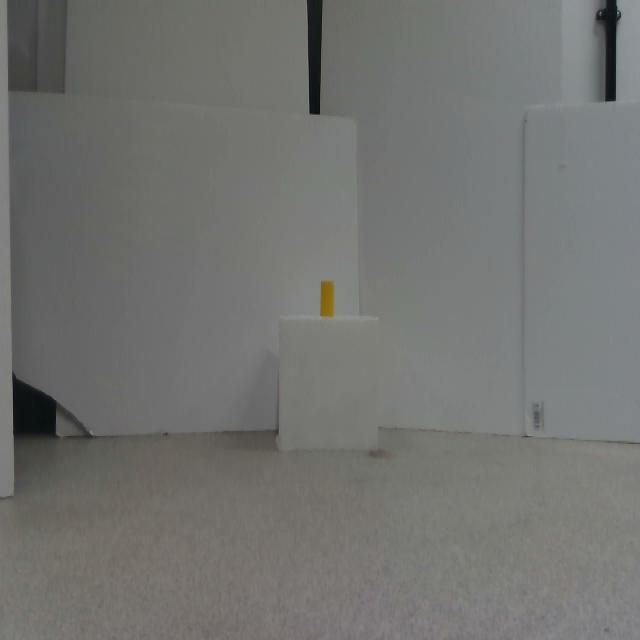yellow_cylinder: (321, 280, 334, 317)
